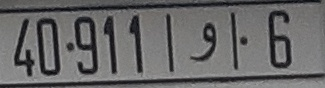0: (36, 17, 62, 77)
1: (100, 15, 121, 76), (127, 14, 146, 76)
4: (12, 19, 36, 79)
6: (266, 9, 293, 69)
9: (73, 15, 100, 76)
waw: (187, 21, 220, 64)
